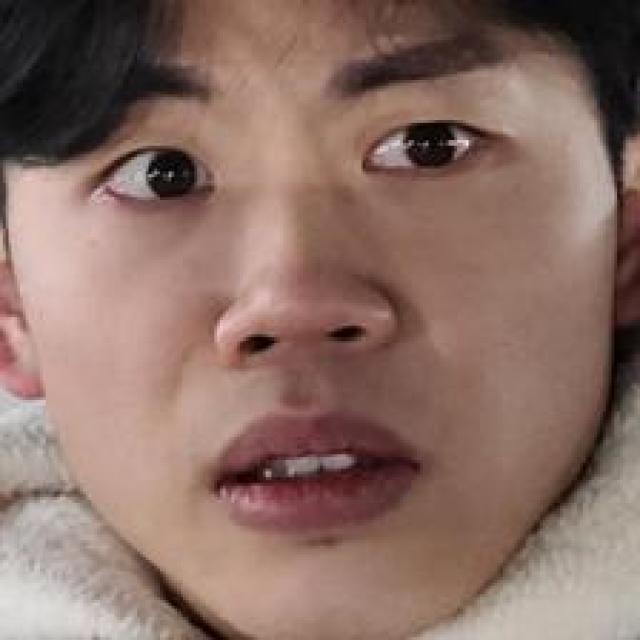Fear: (40, 28, 524, 579)
